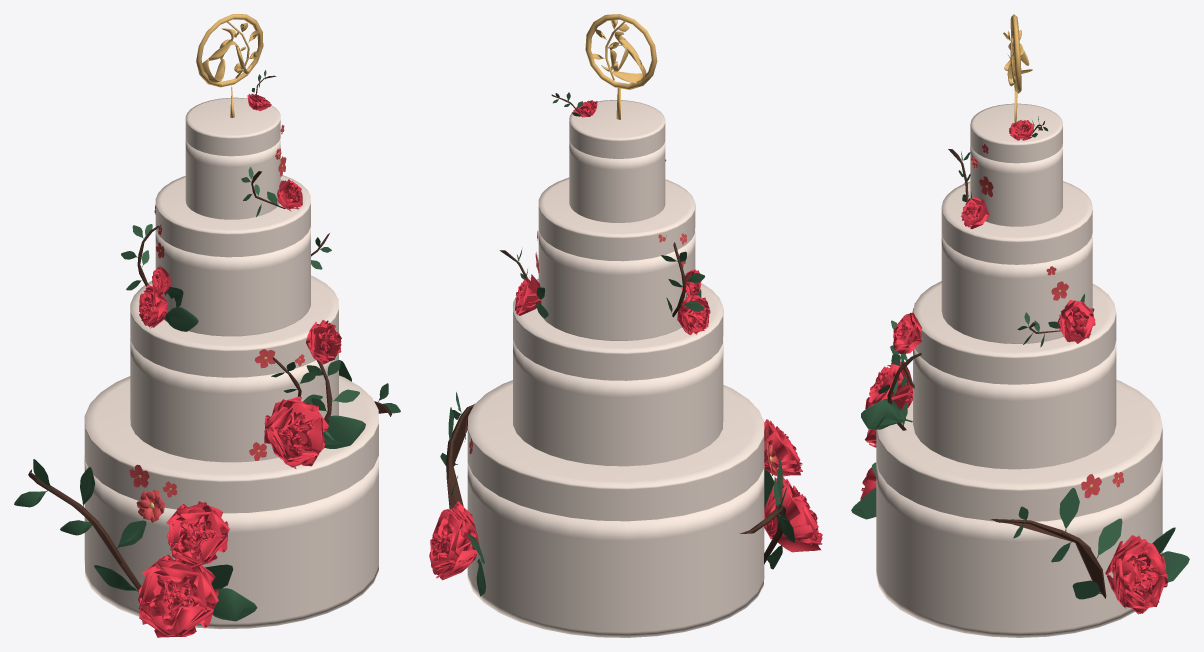
File: 4-tier-white-roses-ring.glb
3 views of the same model, side by side, from view 1: azimuth 30°, elevation 25°; view 2: azimuth 150°, elevation 25°; view 3: azimuth 270°, elevation 25° (orthographic).
Visible parts, largest first — view 1: 3.001, 3, 2, 1, grid.013, Plane.024, grid.016, grid.012, Cylinder.006, grid.015, Plane.009, Plane.022 (+7 smaller); view 2: 3.001, 3, 2, 1, Cylinder.006, grid.020, grid.013, Plane.008, Plane.024, grid.012, grid.017, Plane.023 (+1 smaller); view 3: 3.001, 3, 2, 1, grid.020, Plane.008, grid.016, grid.019, Cylinder.006, Plane.009, grid.015, grid.021 (+3 smaller).
Boxes of the visible parts, bbox=[...] form: 3.001: bbox=[84, 375, 378, 629]; 3: bbox=[130, 275, 338, 462]; 2: bbox=[155, 175, 310, 336]; 1: bbox=[185, 97, 280, 219]; grid.013: bbox=[138, 554, 218, 637]; Plane.024: bbox=[14, 459, 146, 591]; grid.016: bbox=[264, 396, 328, 468]; grid.012: bbox=[166, 501, 229, 568]; Cylinder.006: bbox=[196, 14, 263, 117]; grid.015: bbox=[306, 320, 341, 364]; Plane.009: bbox=[323, 415, 365, 448]; Plane.022: bbox=[212, 588, 257, 621]; 3.001: bbox=[467, 380, 764, 637]; 3: bbox=[513, 279, 723, 466]; 2: bbox=[538, 177, 695, 340]; 1: bbox=[569, 100, 665, 222]; Cylinder.006: bbox=[585, 14, 657, 119]; grid.020: bbox=[429, 501, 480, 580]; grid.013: bbox=[764, 477, 822, 552]; Plane.008: bbox=[440, 392, 475, 509]; Plane.024: bbox=[739, 459, 795, 569]; grid.012: bbox=[764, 419, 802, 476]; grid.017: bbox=[677, 295, 710, 335]; Plane.023: bbox=[661, 242, 704, 317]; 3.001: bbox=[876, 379, 1162, 637]; 3: bbox=[913, 281, 1116, 469]; 2: bbox=[941, 181, 1092, 343]; 1: bbox=[970, 103, 1062, 226]; grid.020: bbox=[1105, 535, 1167, 614]; Plane.008: bbox=[990, 487, 1122, 599]; grid.016: bbox=[865, 358, 913, 409]; grid.019: bbox=[1057, 300, 1095, 343]; Cylinder.006: bbox=[1003, 14, 1032, 123]; Plane.009: bbox=[861, 399, 912, 429]; grid.015: bbox=[893, 313, 921, 353]; grid.021: bbox=[961, 196, 989, 228].
Size of the model in its own units: 6.25 by 9.13 by 5.05.
